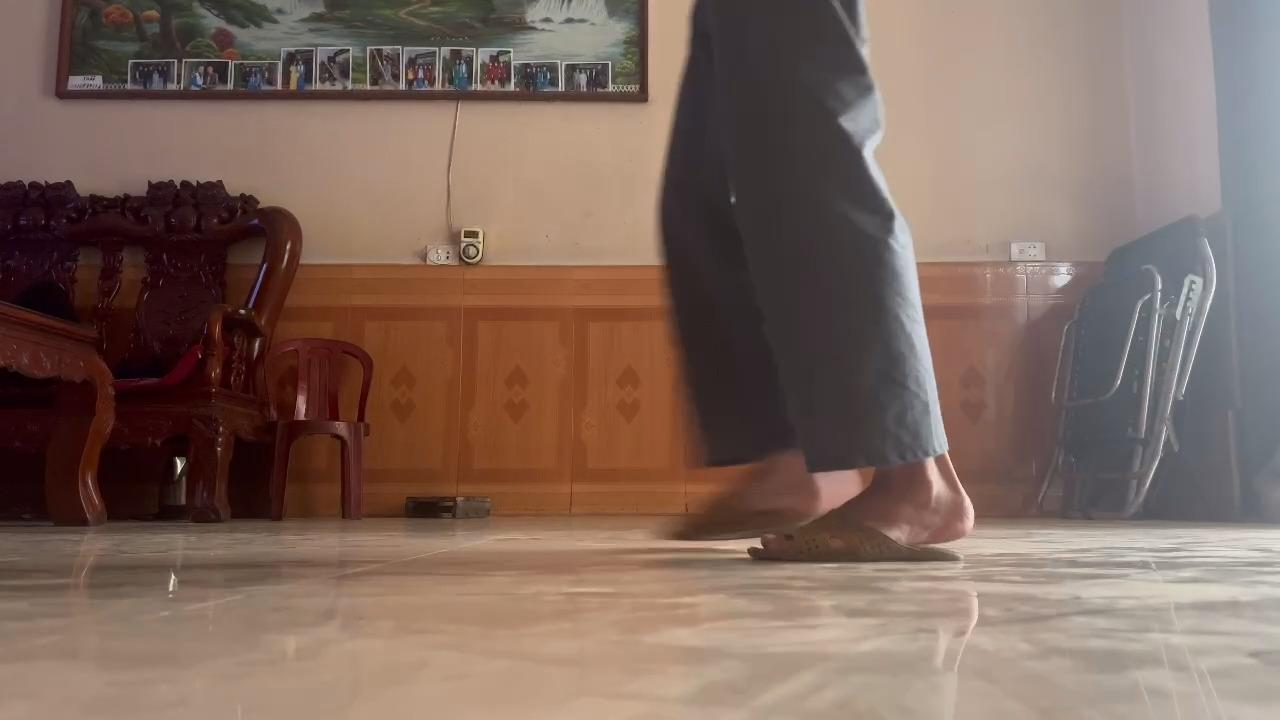no-boot: (745, 482, 980, 567)
